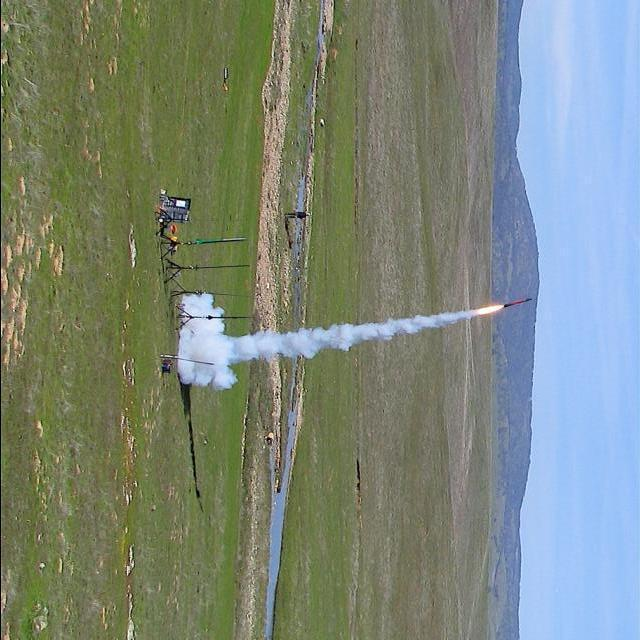missile: (496, 288, 530, 320)
